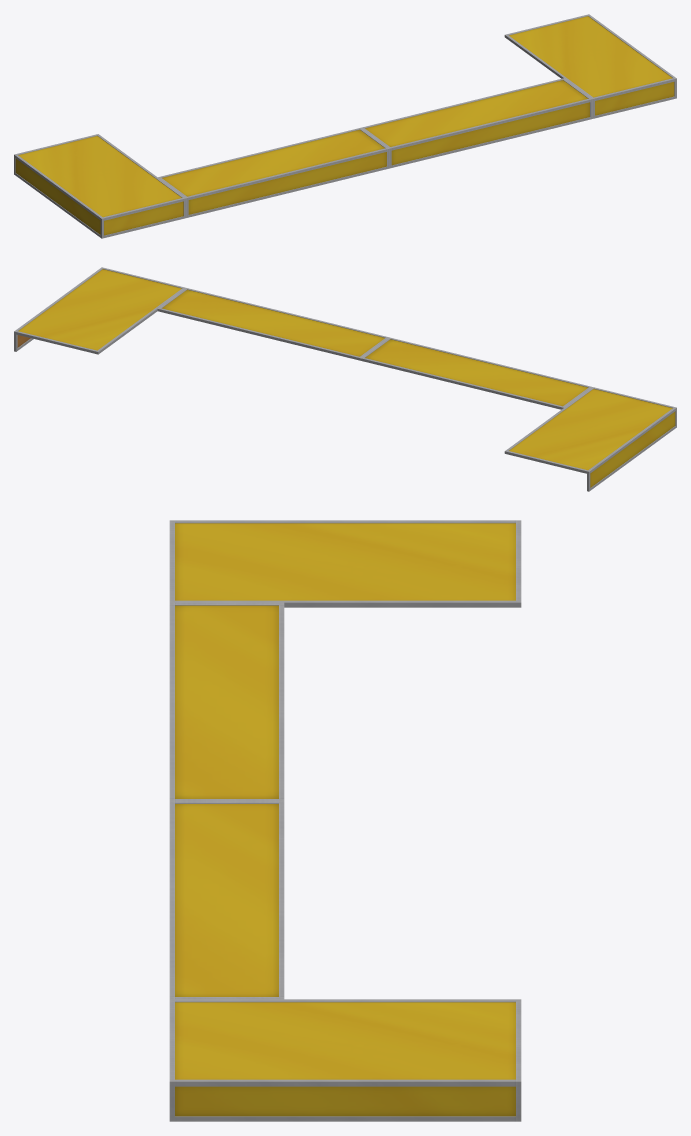
File: jsf_2P_s04_c03_t03_DX.fbx
The picture shows the model from 3 angles, top to bottom: view 1: azimuth 30°, elevation 25°; view 2: azimuth 150°, elevation 25°; view 3: azimuth 270°, elevation 25°; orthographic projection. The views are drawn at different scales.
Visible parts, largest first — view 1: jsf_2P_s04_c03_t03_DX; view 2: jsf_2P_s04_c03_t03_DX; view 3: jsf_2P_s04_c03_t03_DX.
Boxes of the visible parts, x1=… form: jsf_2P_s04_c03_t03_DX: x1=14, y1=14, x2=676, y2=238; jsf_2P_s04_c03_t03_DX: x1=14, y1=267, x2=676, y2=491; jsf_2P_s04_c03_t03_DX: x1=169, y1=520, x2=521, y2=1121.
Bounding box in the file's own units: 378 × 12.51 × 100.
